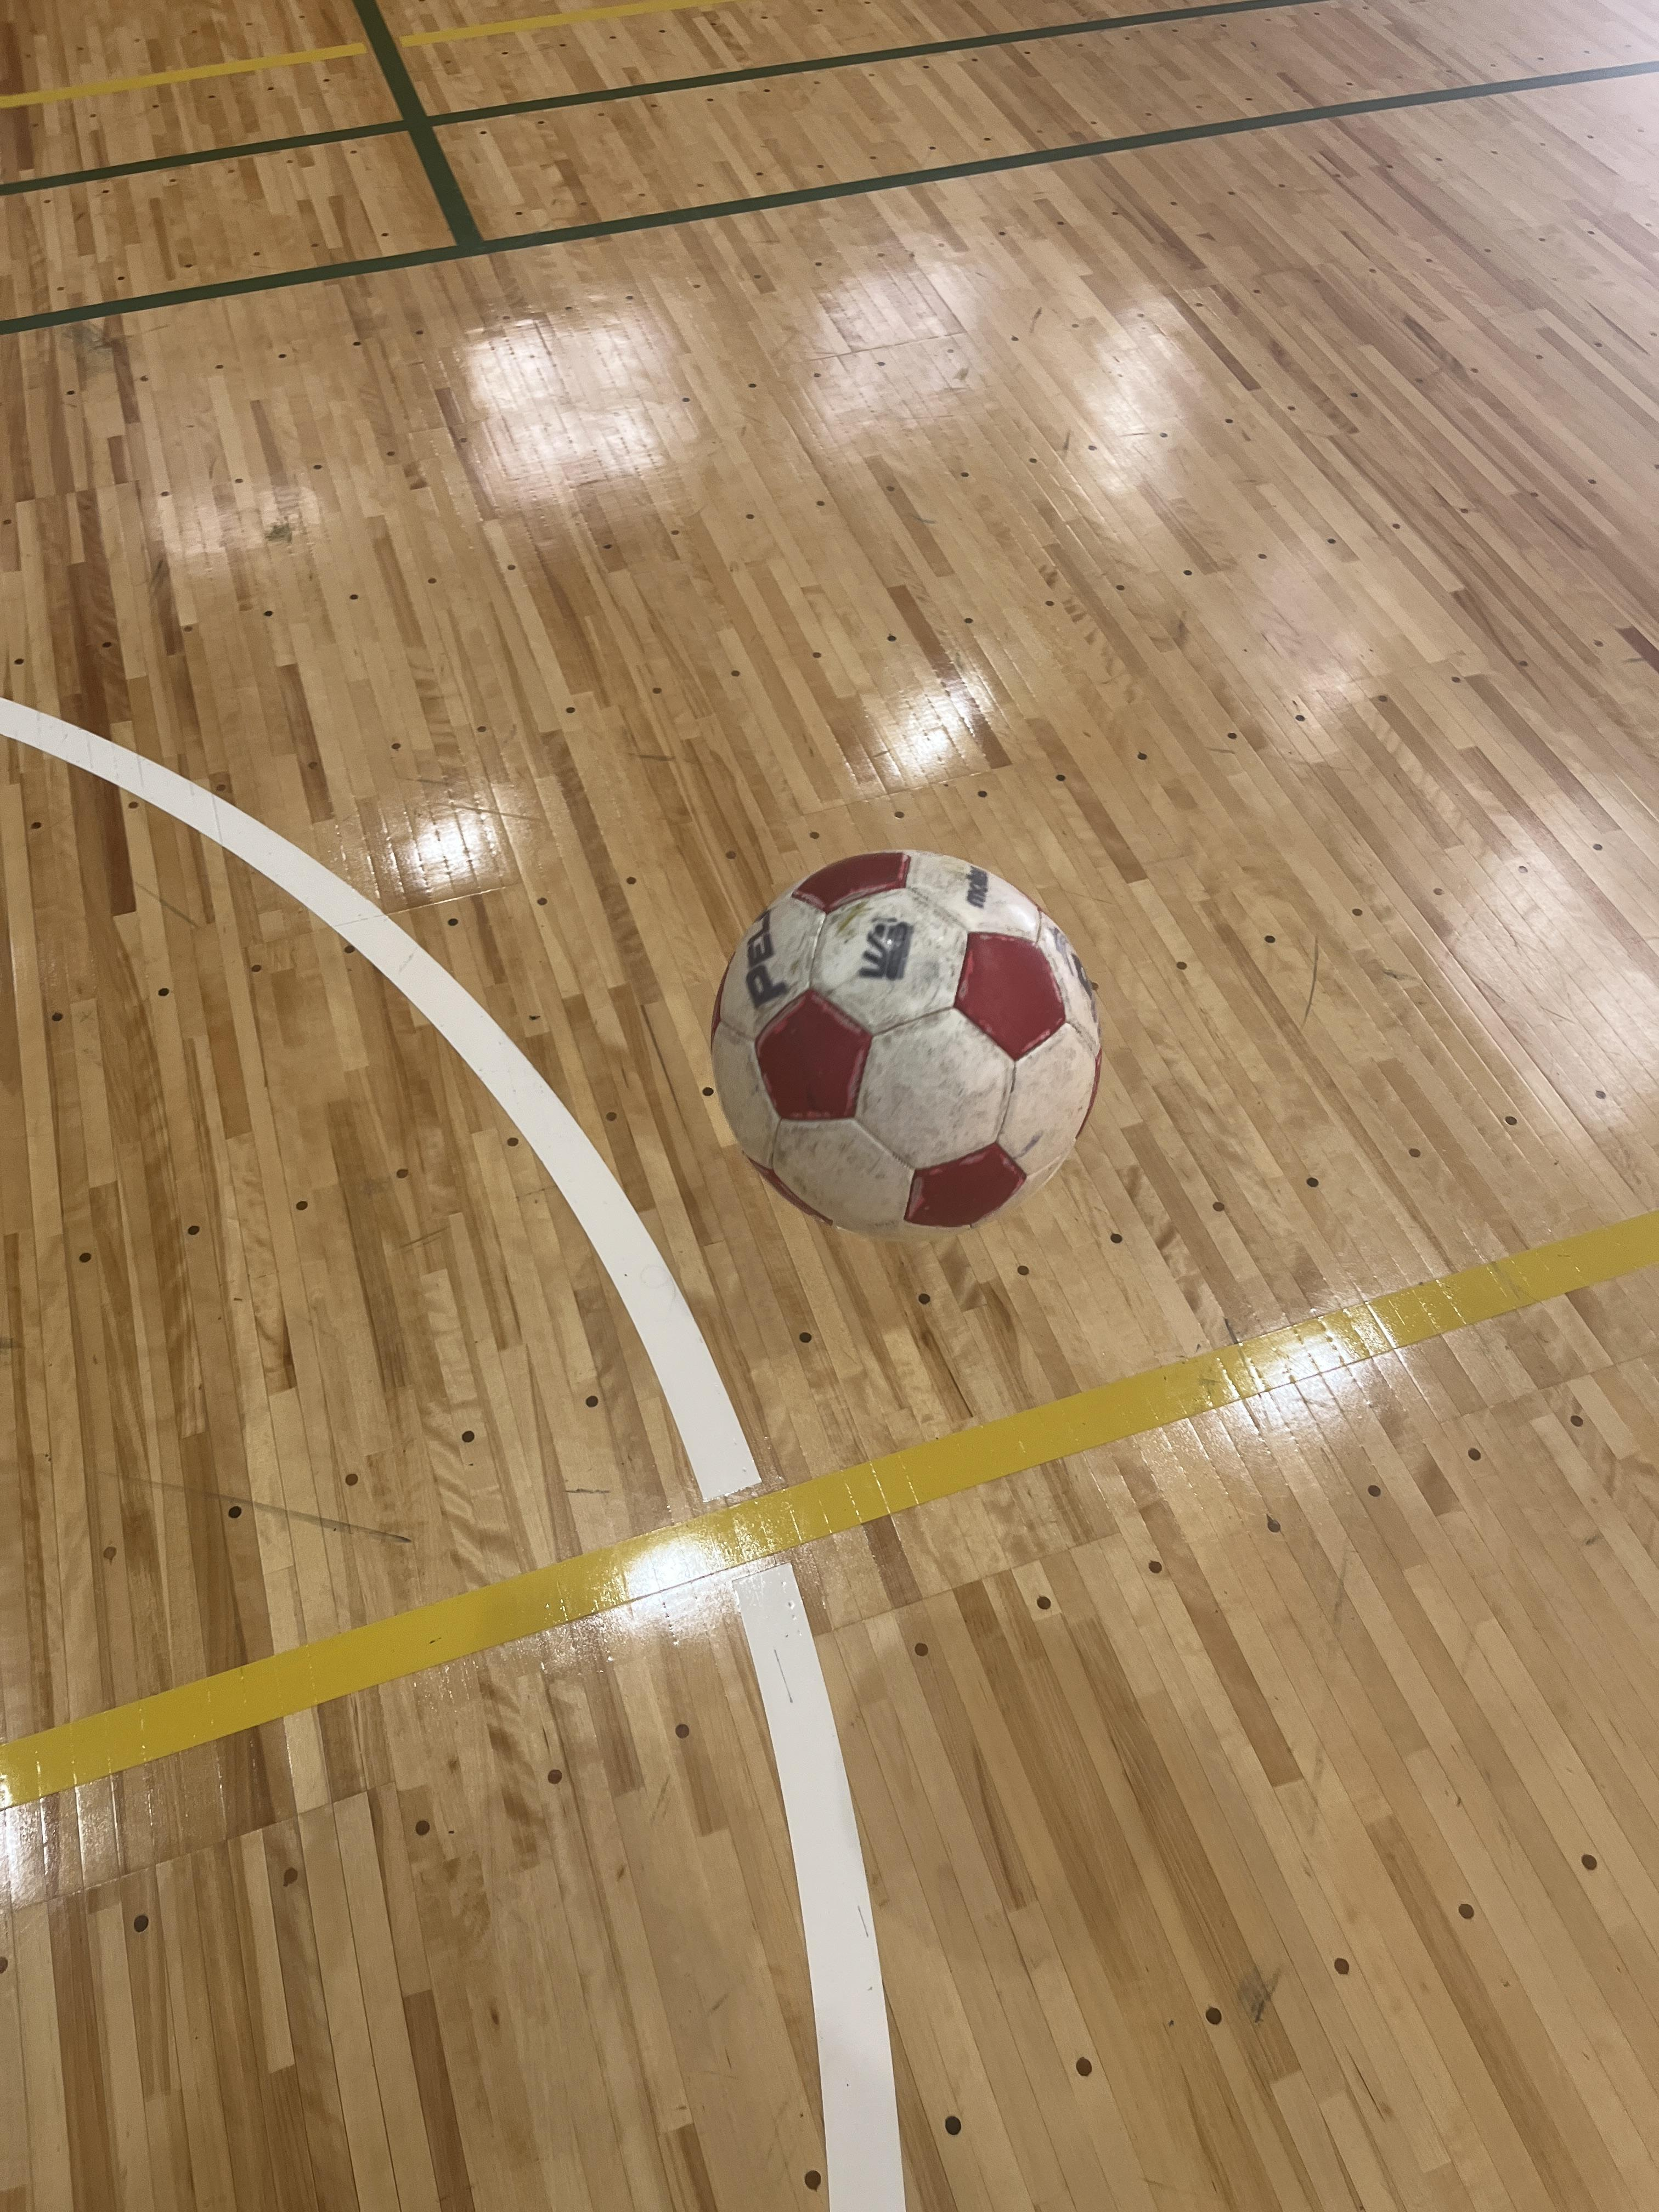Sports-Ball: (706, 845, 1098, 1238)
